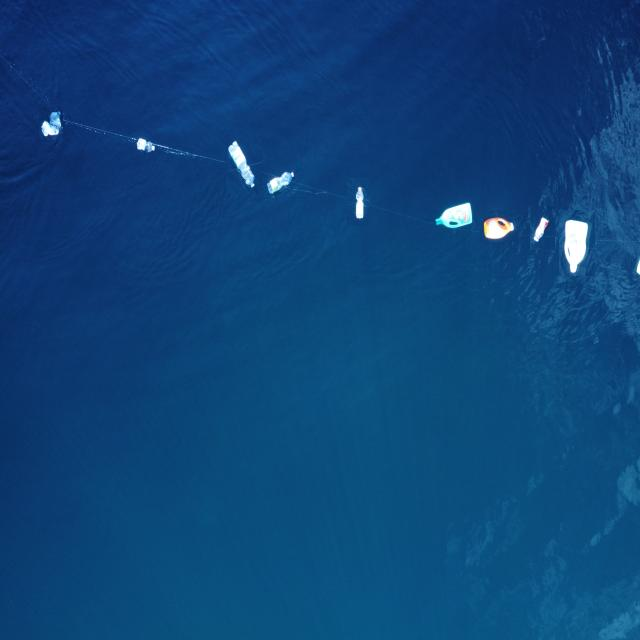bottles: (559, 210, 595, 276), (226, 134, 262, 194), (431, 194, 476, 237), (262, 165, 298, 202), (480, 210, 518, 242), (530, 206, 555, 250), (347, 178, 369, 225), (39, 107, 63, 140), (135, 131, 156, 157)
